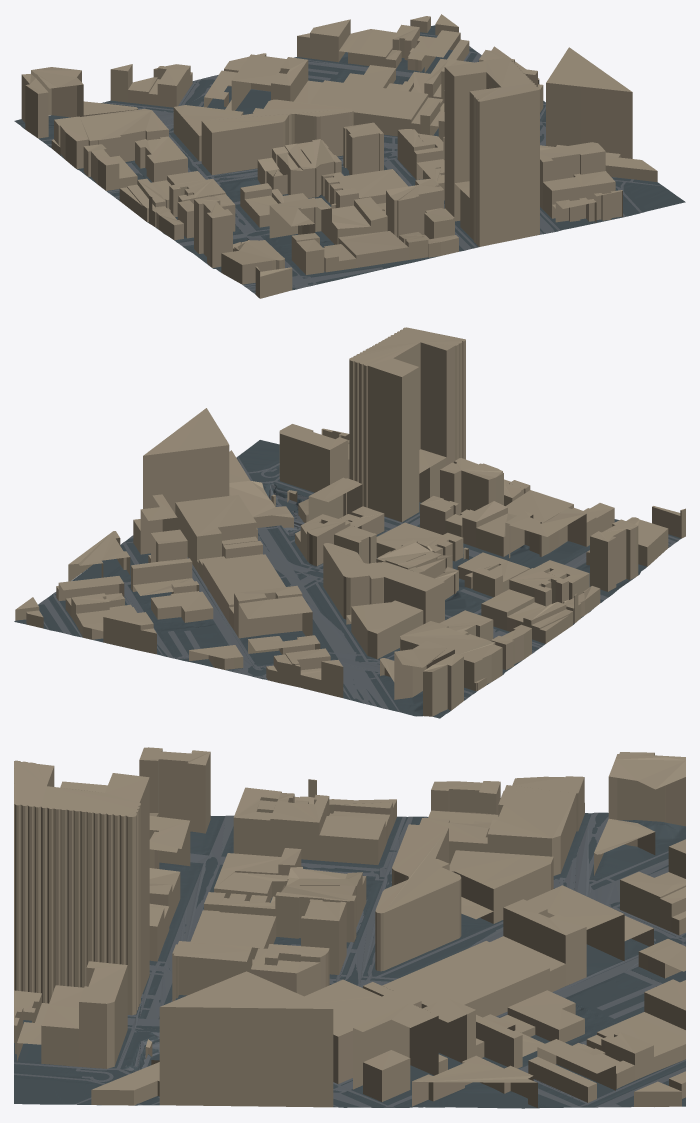
File: epsg26910-1437-10890.lod0.glb
The picture shows the model from 3 angles, top to bottom: view 1: azimuth 30°, elevation 25°; view 2: azimuth 150°, elevation 25°; view 3: azimuth 270°, elevation 25°; orthographic projection. The views are drawn at different scales.
Visible parts, largest first — view 1: epsg26910-1437-10890-lod0; view 2: epsg26910-1437-10890-lod0; view 3: epsg26910-1437-10890-lod0.
Part boxes in pixels (x1,y1,x2,y2): epsg26910-1437-10890-lod0: [14, 14, 685, 298]; epsg26910-1437-10890-lod0: [14, 327, 685, 718]; epsg26910-1437-10890-lod0: [14, 747, 685, 1108].
Bounding box in the file's own units: 384 × 140 × 384.
